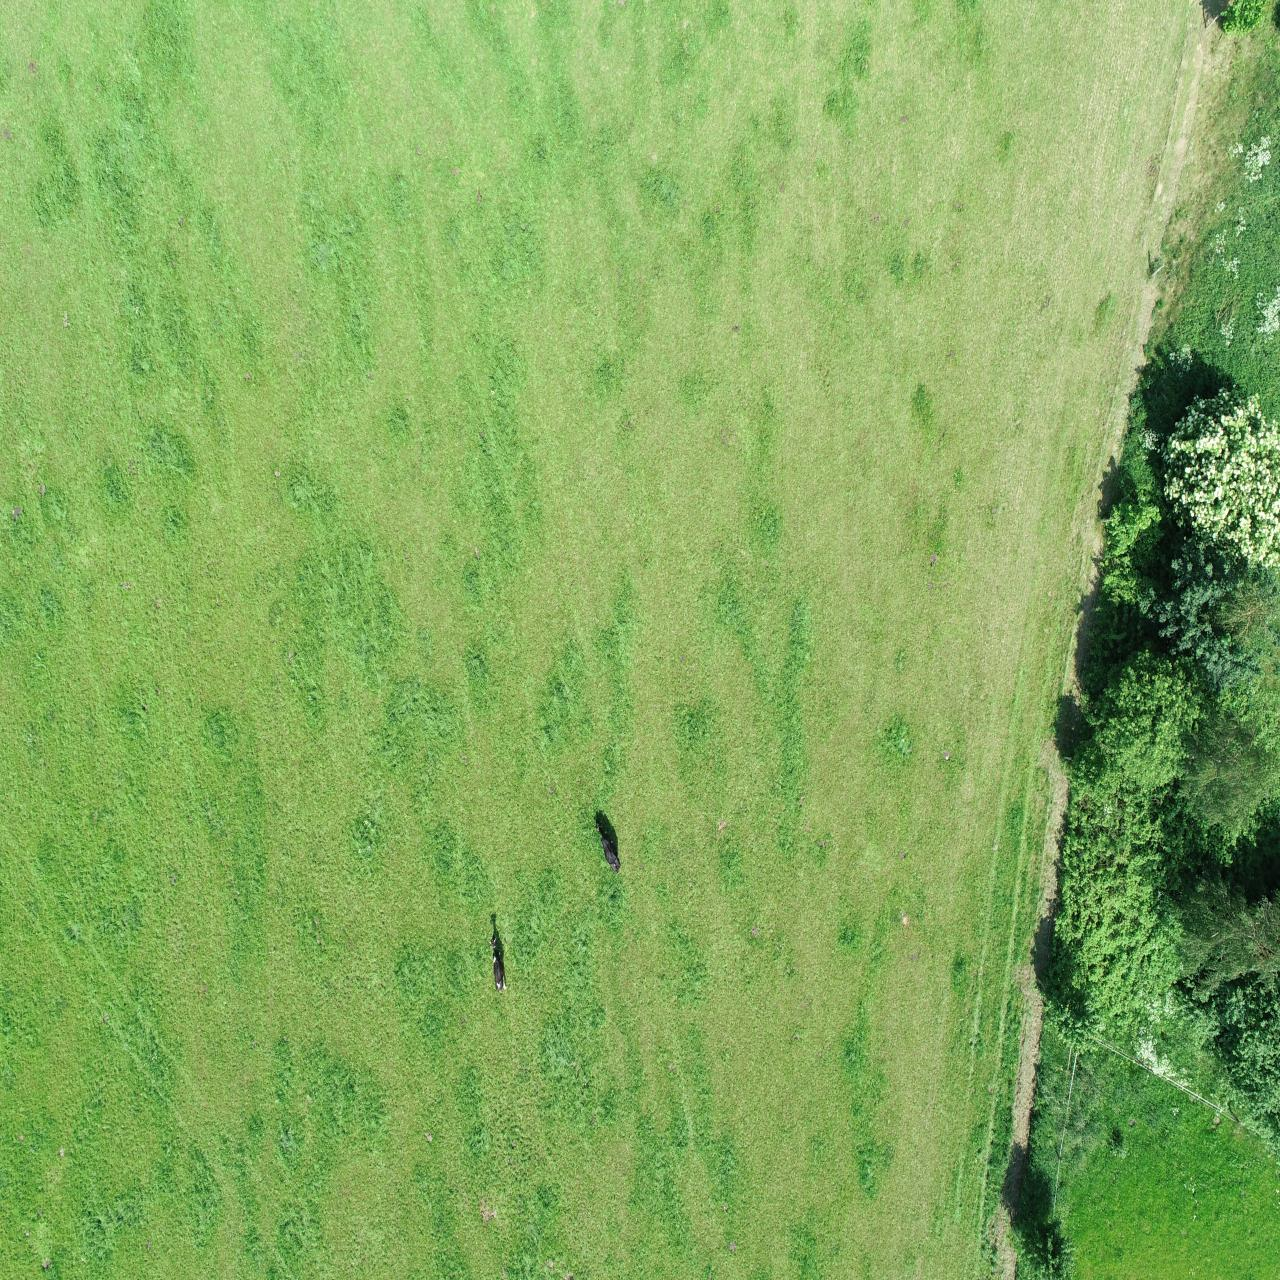cow: (592, 816, 626, 874), (488, 930, 509, 996)
